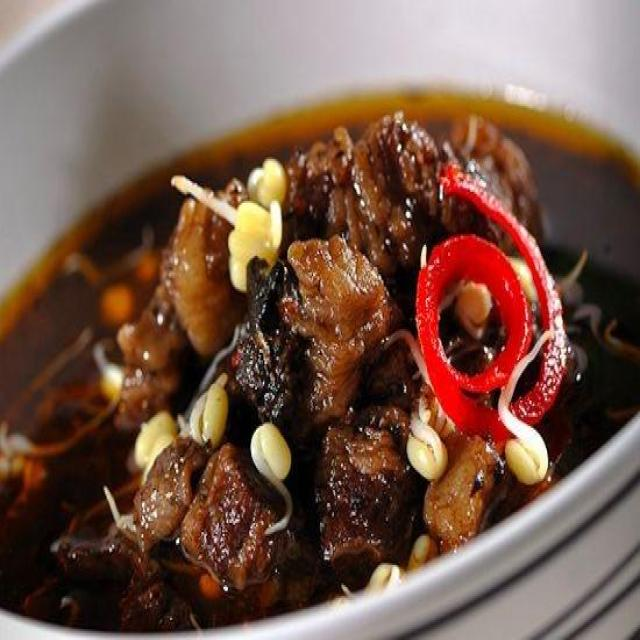Rawon: (10, 135, 633, 610)
